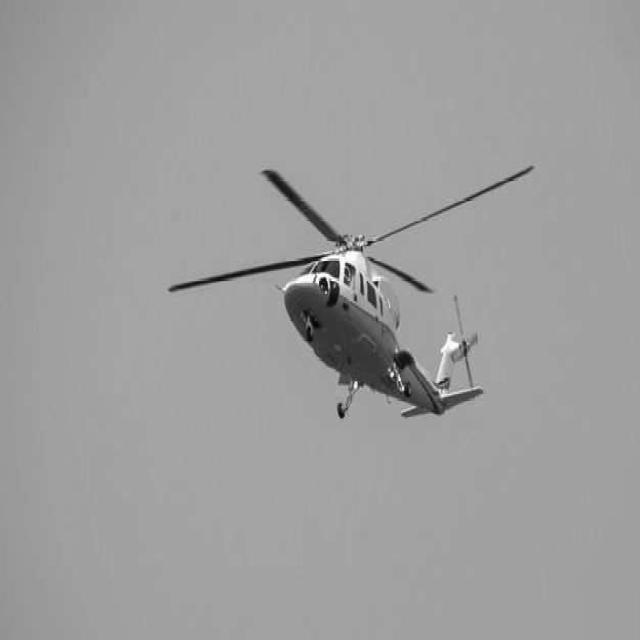helicopter: (164, 138, 543, 438)
